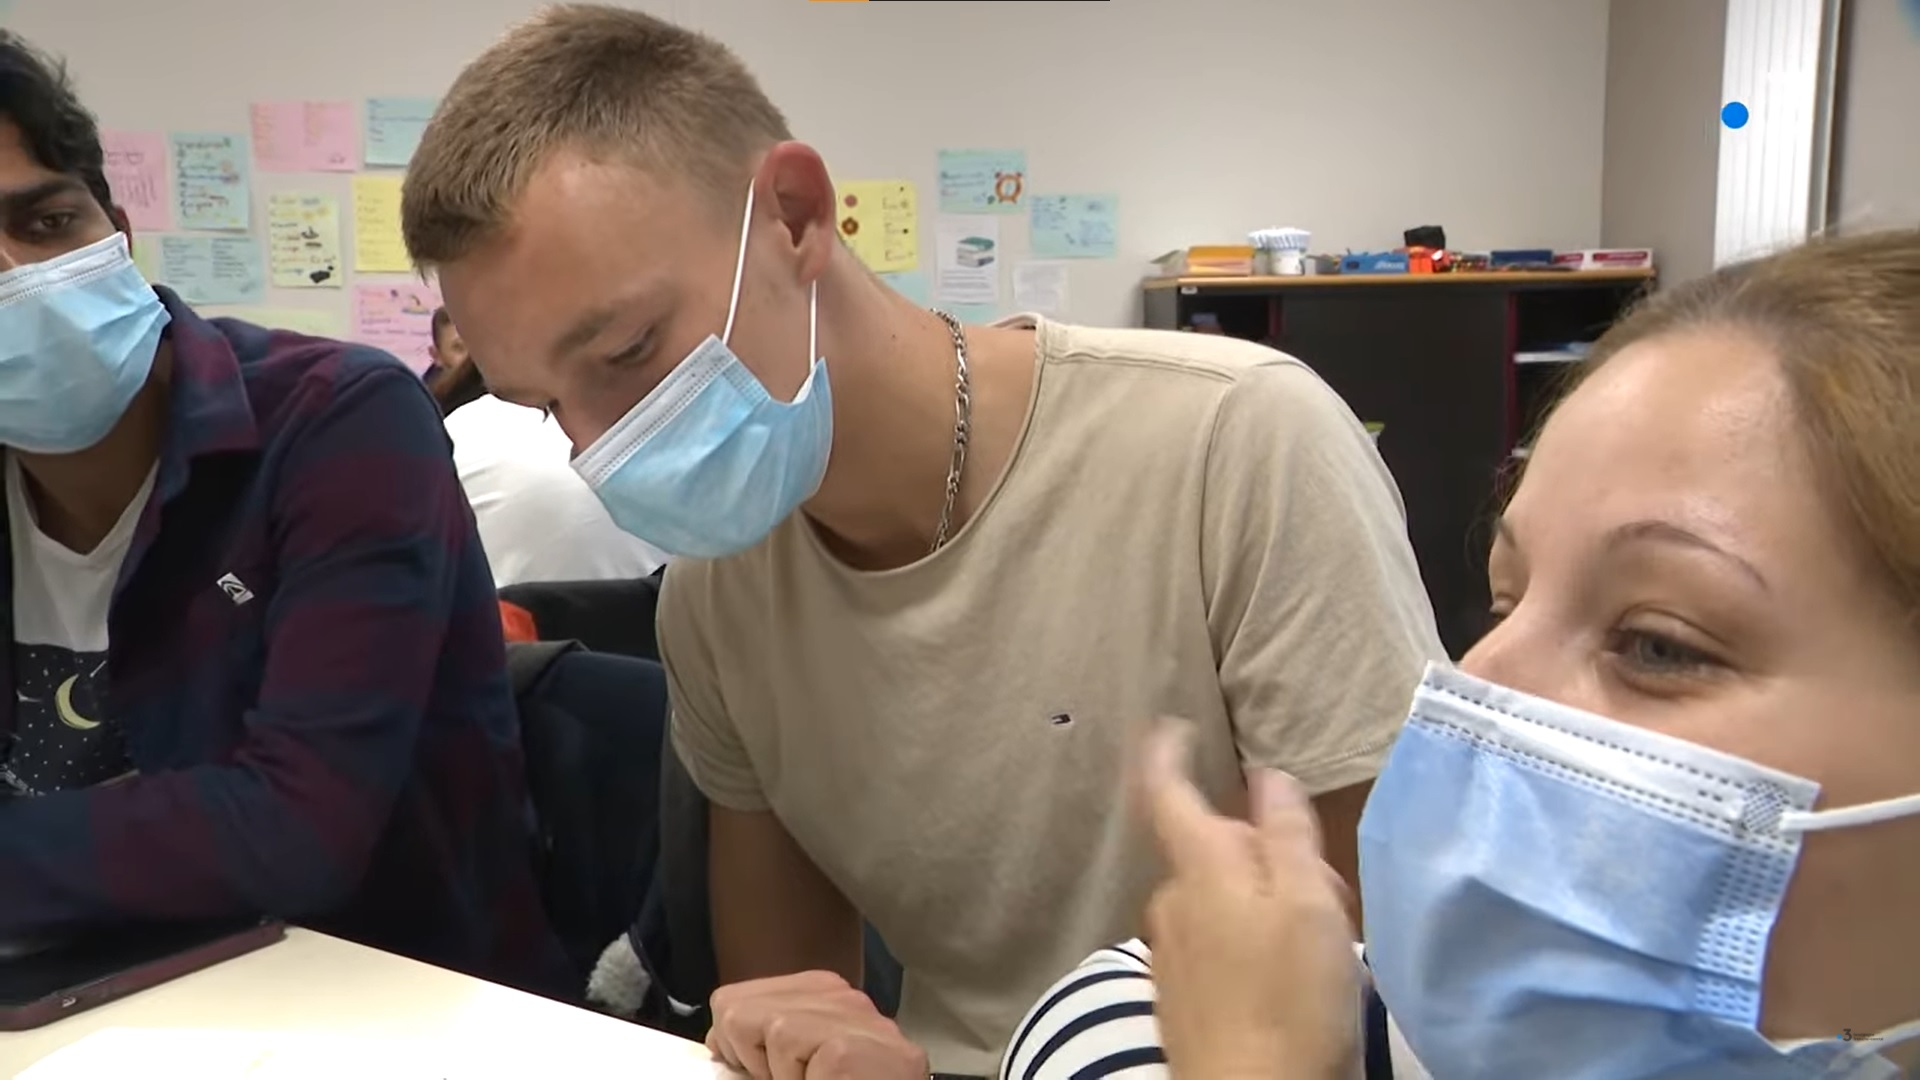with_mask: (1365, 377, 1910, 1080), (449, 137, 858, 559)
